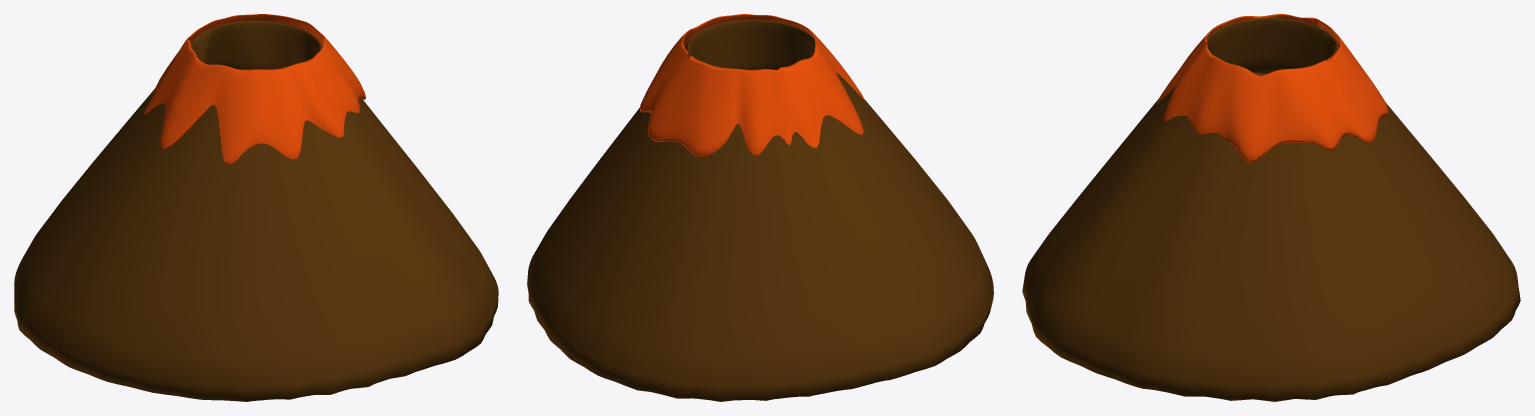
File: Volcano.fbx
3 renders of one model, left to right at view 1: azimuth 30°, elevation 25°; view 2: azimuth 150°, elevation 25°; view 3: azimuth 270°, elevation 25°, orthographic.
Visible parts, largest first — view 1: Cylinder.001, Cylinder; view 2: Cylinder.001, Cylinder; view 3: Cylinder.001, Cylinder.
Part boxes in pixels (left/top/right/bottom): Cylinder.001: left=14, top=20, right=498, bottom=401; Cylinder: left=144, top=14, right=365, bottom=164; Cylinder.001: left=527, top=19, right=993, bottom=401; Cylinder: left=640, top=14, right=864, bottom=156; Cylinder.001: left=1022, top=18, right=1520, bottom=401; Cylinder: left=1157, top=14, right=1388, bottom=162.
Bounding box in the file's own units: 320 × 200 × 330.
